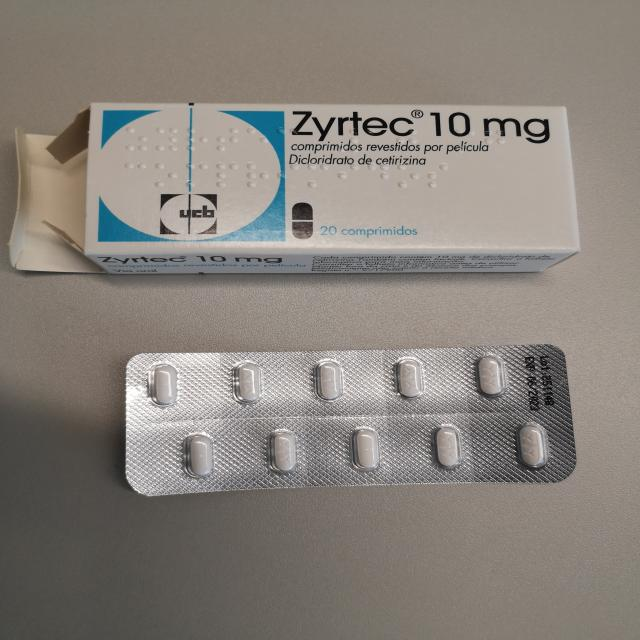Pill: (511, 421, 555, 472), (344, 425, 386, 474), (179, 429, 218, 481), (227, 358, 267, 407), (261, 426, 300, 476), (146, 360, 184, 410), (308, 357, 348, 403), (428, 421, 464, 472), (469, 354, 508, 399), (390, 356, 428, 401)
